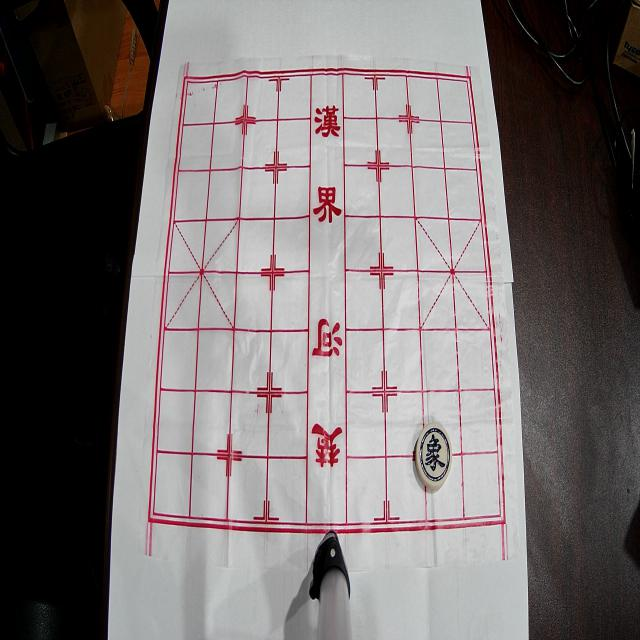black-elephant: (416, 423, 452, 489)
